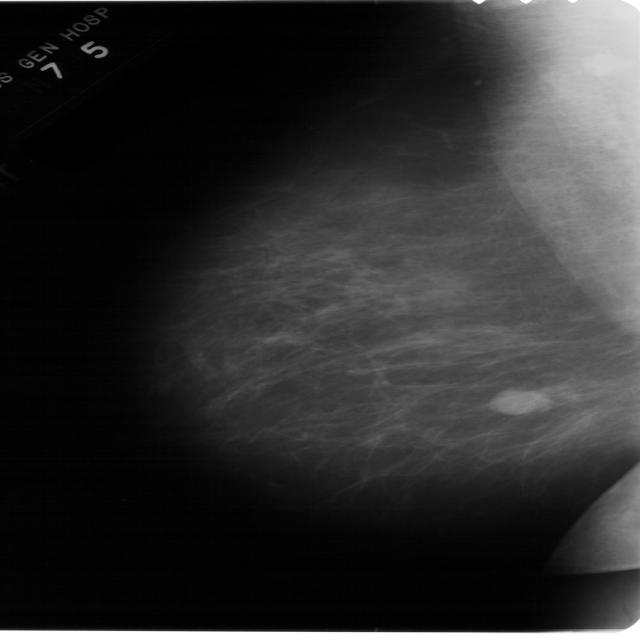tumour: (486, 387, 550, 415)
